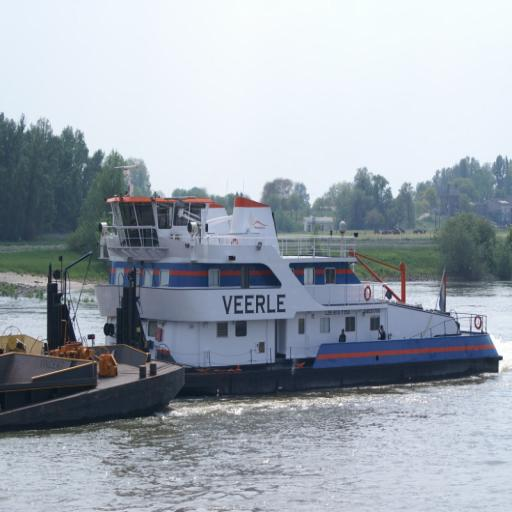tugboat: (41, 159, 507, 413)
